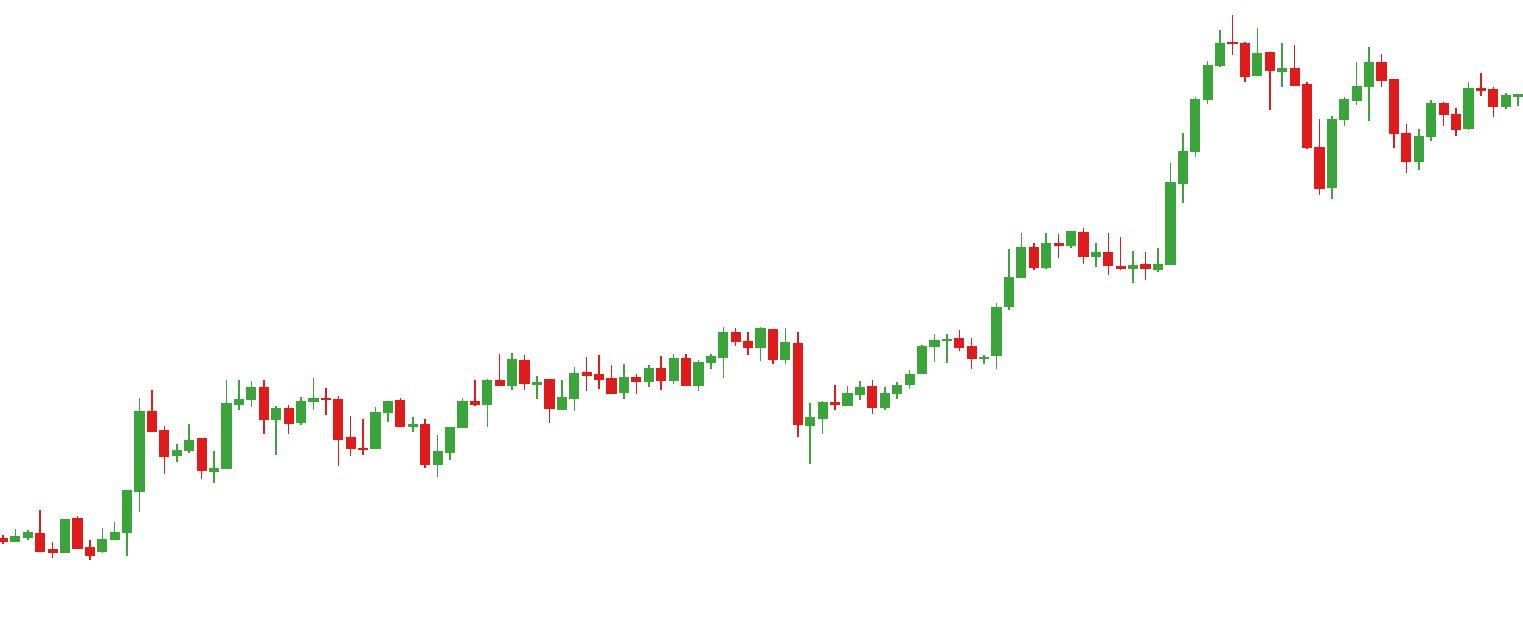buy: (544, 359, 830, 464), (332, 418, 444, 478)
